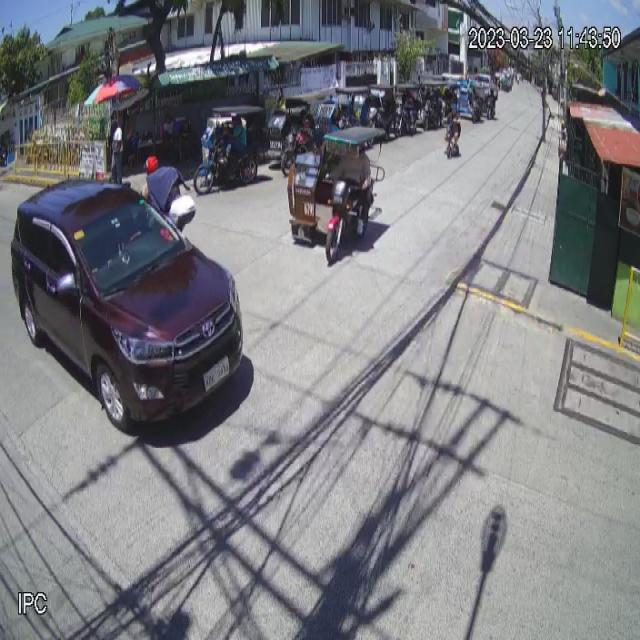Car: (9, 174, 245, 434)
Tricycle: (286, 125, 387, 266)
